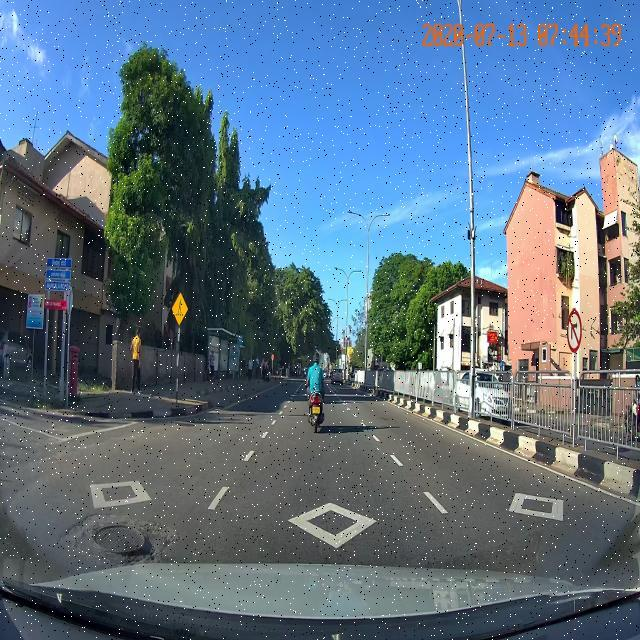diamond: (188, 496, 486, 561)
